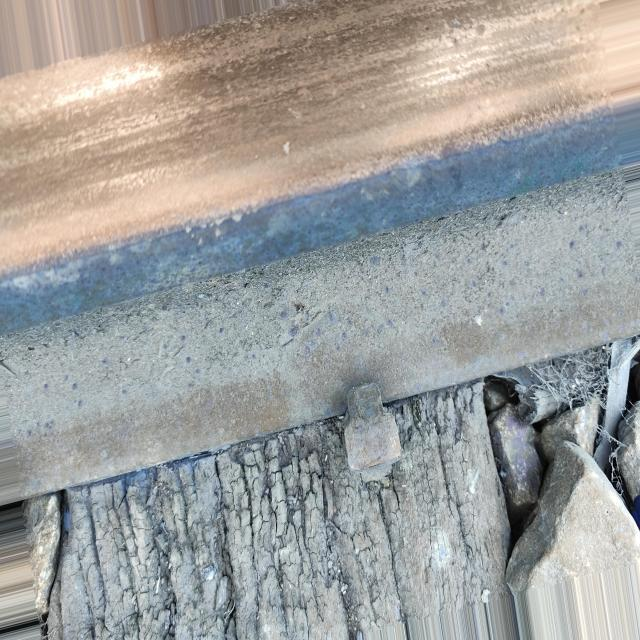Good Fasteners: (345, 383, 401, 482)
